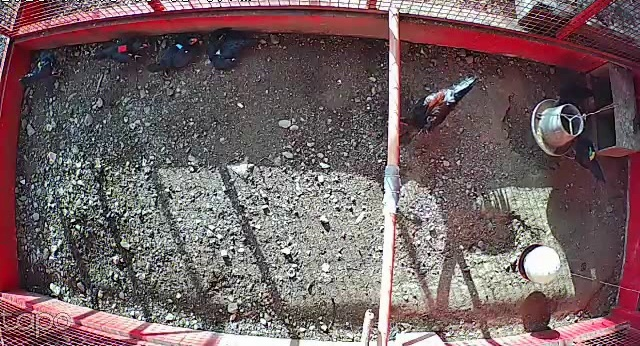Chicken: (201, 25, 261, 72), (561, 134, 610, 183), (146, 36, 202, 77), (90, 33, 151, 68)
Rooster: (391, 74, 478, 138)
Saddle_Color_Blue: (175, 44, 183, 50)
Saddle_Color_Red: (118, 43, 128, 53)
Saddle_Color_White: (216, 47, 221, 57)
Saddle_Color_YellowGreen: (587, 146, 595, 161)
